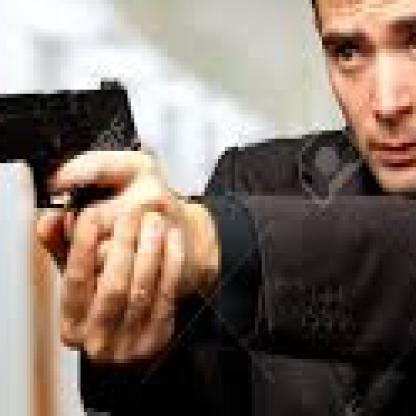gun: (0, 70, 148, 228)
